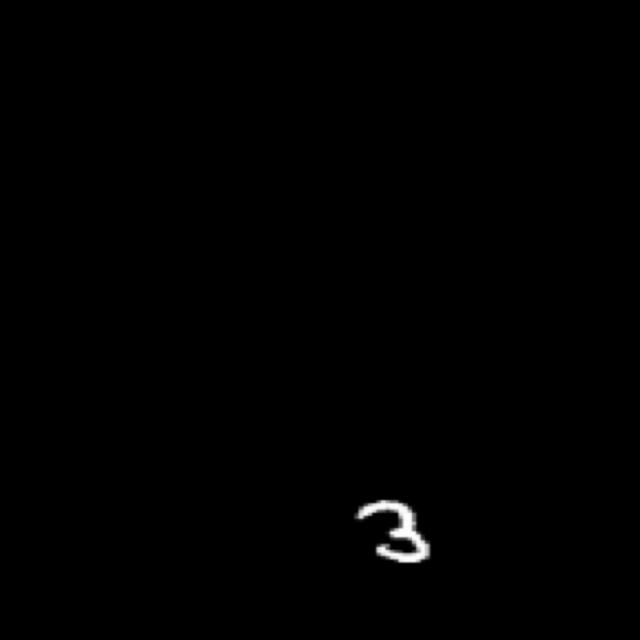three -3-: (340, 485, 449, 576)
